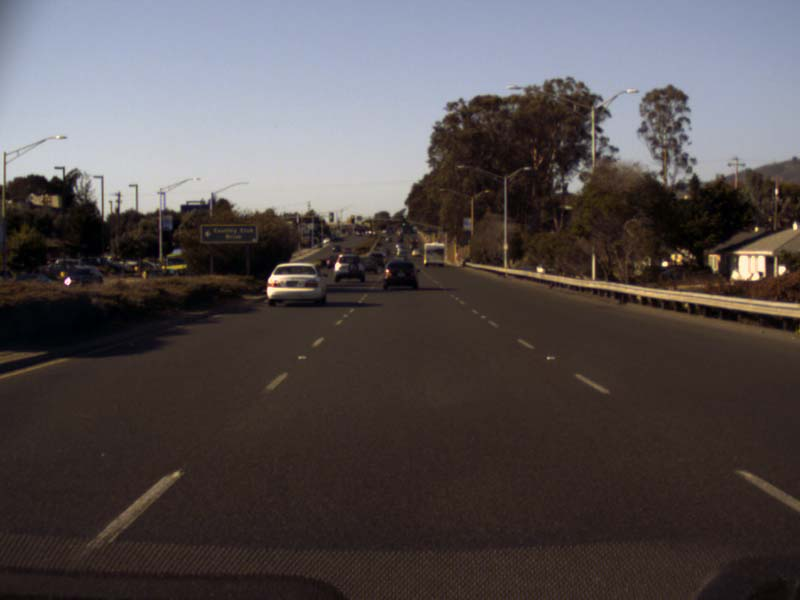Green: (402, 218, 405, 226)
